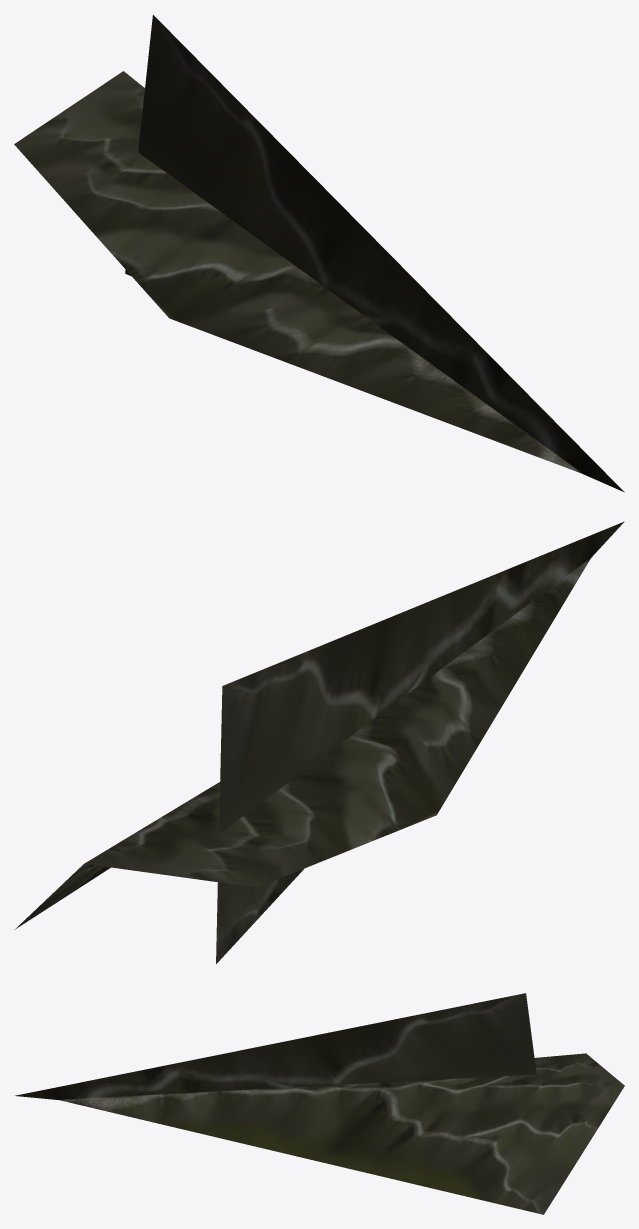
Rendered from MEP_Oak_Part_03.fbx.
3 views of the same model, one above another, from view 1: azimuth 30°, elevation 25°; view 2: azimuth 150°, elevation 25°; view 3: azimuth 270°, elevation 25° (orthographic). The views are drawn at different scales.
Parts seen in each view (by area): view 1: MEP_Oak_Part_03; view 2: MEP_Oak_Part_03; view 3: MEP_Oak_Part_03.
Part boxes in pixels (<box>): MEP_Oak_Part_03: <box>14,15,624,492</box>; MEP_Oak_Part_03: <box>14,521,624,963</box>; MEP_Oak_Part_03: <box>14,993,624,1214</box>.
Bounding box in the file's own units: 2.35 × 2.16 × 7.19.
